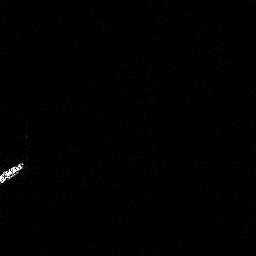ship: (1, 158, 27, 185)
